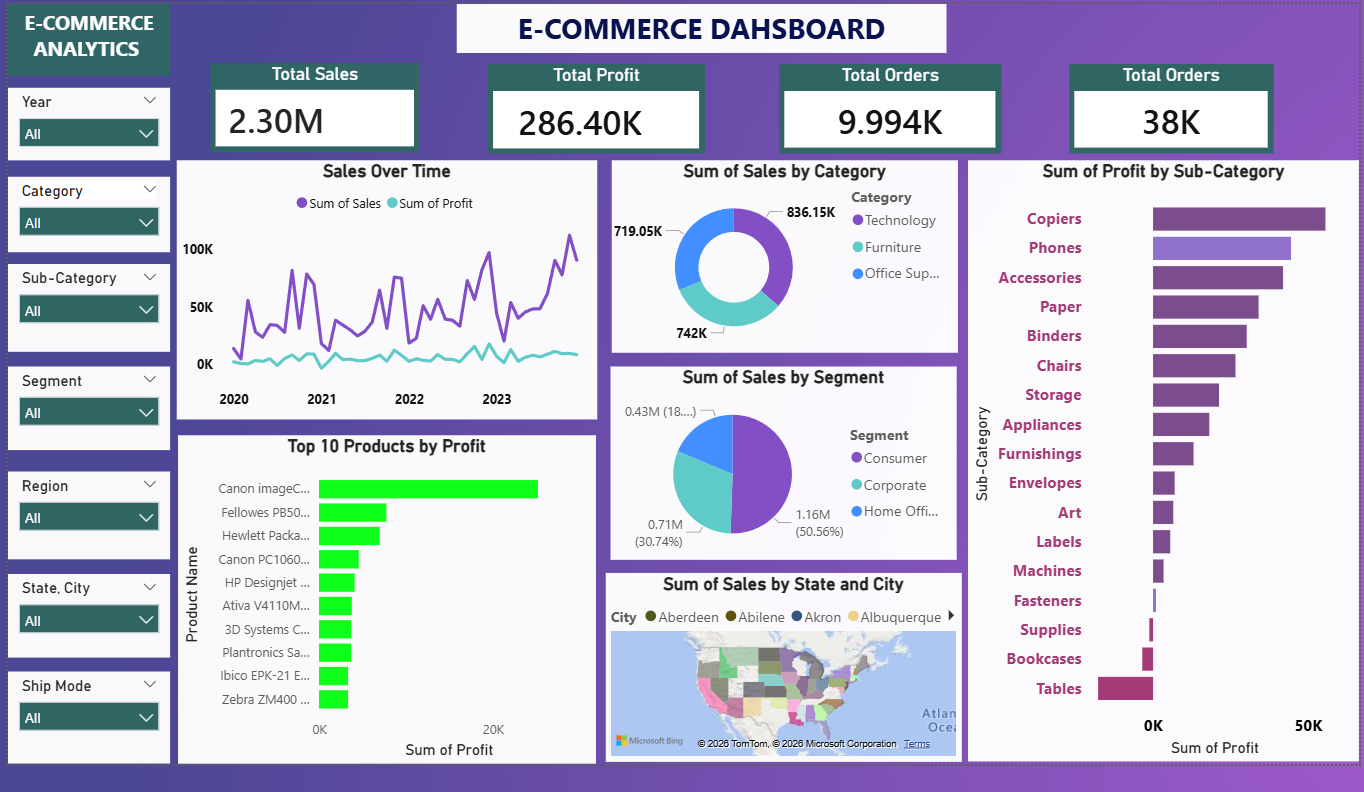

What the dashboard file says about the page in this screenshot:
{"tool":"powerbi","page":{"name":"Page 8","canvas":[1280,720],"ordinal":7},"visuals":[{"type":"textbox","box":[425,0,463.8,46.2],"z":0},{"type":"textbox","box":[0,0,153.4,68.1],"z":1000},{"type":"slicer","fields":{"Values":["Data.Order Date.Variation.Date Hierarchy.Year"]},"box":[0,78.9,153.4,69.1],"z":2000},{"type":"slicer","fields":{"Values":["Data.Category"]},"box":[0,163.1,153.4,72.4],"z":3000},{"type":"slicer","fields":{"Values":["Data.Sub-Category"]},"box":[0,246.3,153.4,83.2],"z":4000},{"type":"slicer","fields":{"Values":["Data.Segment"]},"box":[0,343.5,153.4,78.9],"z":5000},{"type":"slicer","fields":{"Values":["Data.Region"]},"box":[0,442.9,153.4,83.2],"z":6000},{"type":"slicer","fields":{"Values":["Data.State","Data.City"]},"box":[0,540.1,153.4,78.9],"z":7000},{"type":"slicer","fields":{"Values":["Data.Ship Mode"]},"box":[0,633,153.4,87.5],"z":8000},{"type":"cardVisual","title":"Total Sales","fields":{"Data":["Sum(Data.Sales)"]},"box":[192.3,55.8,198.1,84.6],"z":9000},{"type":"cardVisual","title":"Total Profit","fields":{"Data":["Sum(Data.Profit)"]},"box":[454.4,56.7,205.7,85],"z":10000},{"type":"cardVisual","title":"Total Orders","fields":{"Data":["CountNonNull(Data.Order ID)"]},"box":[730.9,56.7,210.6,84.6],"z":11000},{"type":"cardVisual","title":"Total Orders","fields":{"Data":["Sum(Data.Quantity)"]},"box":[1005.9,56.7,193.3,84.6],"z":12000},{"type":"lineChart","title":"Sales Over Time","fields":{"Y":["Sum(Data.Sales)","Sum(Data.Profit)"],"Category":["Data.Order Date.Variation.Date Hierarchy.Year","Data.Order Date.Variation.Date Hierarchy.Month"]},"box":[159.7,147.8,398.1,245.6],"z":13000},{"type":"donutChart","fields":{"Y":["Sum(Data.Sales)"],"Category":["Data.Category"]},"box":[572.2,147.8,327.8,182.4],"z":14000},{"type":"barChart","fields":{"Category":["Data.Sub-Category"],"Y":["Sum(Data.Profit)"]},"box":[909.5,147.8,370.7,569.8],"z":15000},{"type":"clusteredBarChart","title":"Top 10 Products by Profit","fields":{"Category":["Data.Product Name"],"Y":["Sum(Data.Profit)"]},"box":[160.9,408.9,395.8,311.1],"z":16000},{"type":"pieChart","fields":{"Category":["Data.Segment"],"Y":["Sum(Data.Sales)"]},"box":[571,343.3,327.8,183.6],"z":17000},{"type":"filledMap","fields":{"Category":["Data.State"],"Series":["Data.City"]},"box":[566.2,538.8,337.3,178.8],"z":18000}]}

Visuals, with their boxes in screenshot pixels (x1, y1, x2, y2):
textbox: 454 4 941 52
textbox: 7 4 168 75
slicer - Data.Order Date.Variation.Date Hierarchy.Year: 7 86 168 159
slicer - Data.Category: 7 175 168 251
slicer - Data.Sub-Category: 7 262 168 350
slicer - Data.Segment: 7 365 168 447
slicer - Data.Region: 7 469 168 556
slicer - Data.State x Data.City: 7 571 168 654
slicer - Data.Ship Mode: 7 669 168 761
"Total Sales" cardVisual: 209 62 417 151
"Total Profit" cardVisual: 485 63 701 152
"Total Orders" cardVisual: 775 63 997 152
"Total Orders" cardVisual: 1064 63 1267 152
"Sales Over Time" lineChart: 175 159 593 417
donutChart - Sum(Data.Sales) x Data.Category: 608 159 953 351
barChart - Data.Sub-Category x Sum(Data.Profit): 963 159 1352 758
"Top 10 Products by Profit" clusteredBarChart: 176 433 592 760
pieChart - Data.Segment x Sum(Data.Sales): 607 364 952 557
filledMap - Data.State x Data.City: 602 570 957 758
